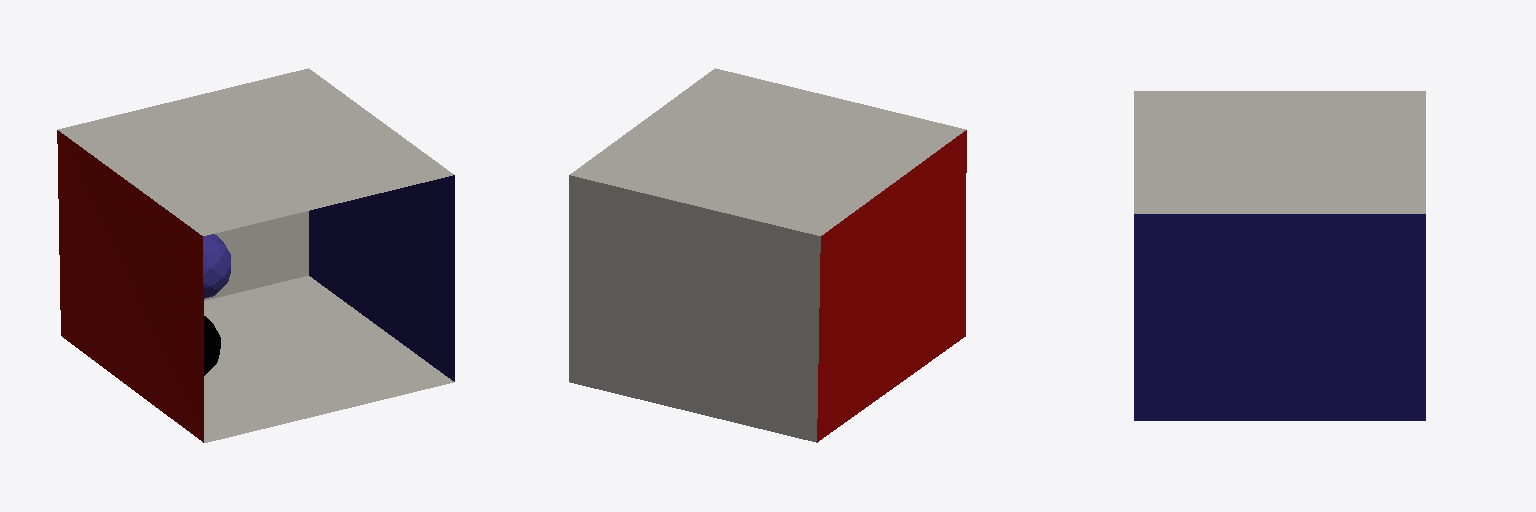
File: CornellBox-Sphere-836.obj
The picture shows the model from 3 angles: view 1: azimuth 30°, elevation 25°; view 2: azimuth 150°, elevation 25°; view 3: azimuth 270°, elevation 25°; orthographic projection.
Parts seen in each view (by area): view 1: ceiling, leftWall, floor, rightWall, backWall, leftSphere, rightSphere; view 2: backWall, ceiling, leftWall; view 3: rightWall, ceiling.
Part boxes in pixels (left/top/right/bottom): ceiling: left=58, top=68, right=453, bottom=235; leftWall: left=57, top=130, right=203, bottom=442; floor: left=204, top=276, right=453, bottom=442; rightWall: left=309, top=175, right=454, bottom=381; backWall: left=204, top=211, right=308, bottom=300; leftSphere: left=203, top=234, right=230, bottom=298; rightSphere: left=204, top=316, right=220, bottom=375; backWall: left=569, top=175, right=820, bottom=442; ceiling: left=570, top=68, right=965, bottom=235; leftWall: left=817, top=130, right=966, bottom=442; rightWall: left=1134, top=214, right=1425, bottom=420; ceiling: left=1134, top=91, right=1425, bottom=213.
Size of the model in its own units: 2.02 by 1.59 by 2.03.